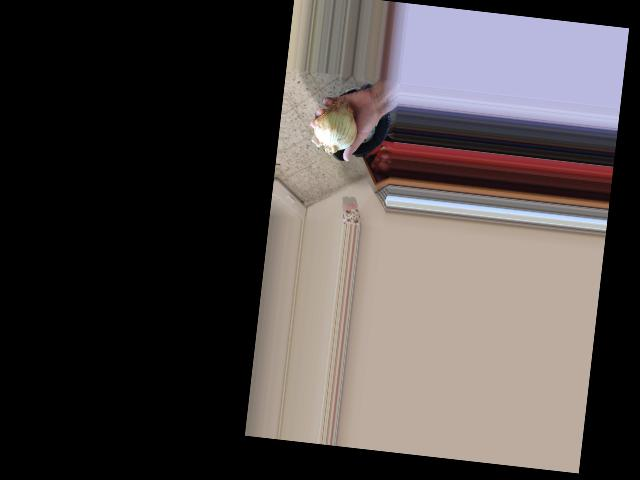onion: (313, 97, 362, 154)
